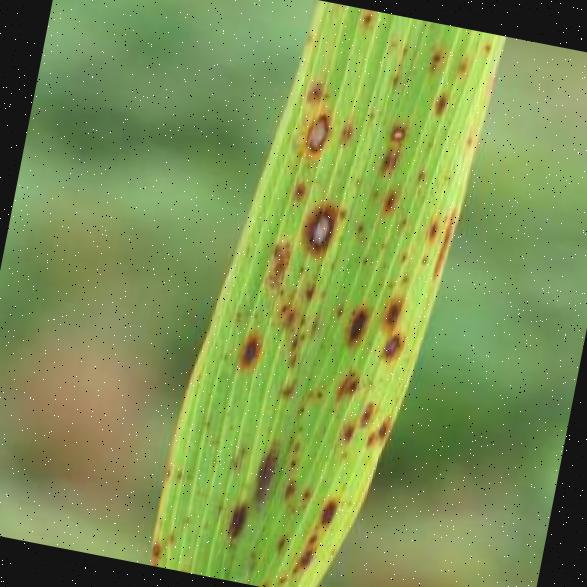Brown_Spot: (420, 190, 464, 292), (243, 426, 288, 511), (290, 196, 341, 260), (222, 318, 272, 382), (294, 101, 336, 164), (256, 233, 296, 296), (214, 490, 254, 551), (324, 358, 369, 410), (336, 296, 372, 354), (370, 284, 408, 336), (285, 536, 321, 578), (423, 80, 456, 124), (374, 323, 406, 368), (310, 488, 342, 532), (366, 405, 398, 444), (376, 179, 402, 220), (351, 394, 377, 432), (266, 524, 294, 558), (331, 414, 360, 446), (418, 212, 442, 248), (448, 45, 472, 80), (275, 472, 300, 505), (280, 342, 304, 376), (383, 115, 409, 146), (420, 44, 445, 76), (141, 532, 169, 560), (274, 370, 298, 401), (357, 422, 380, 454), (302, 306, 322, 342), (333, 115, 356, 146), (382, 60, 404, 90), (236, 552, 266, 574), (299, 522, 326, 546), (302, 75, 324, 103), (276, 303, 296, 333), (219, 451, 246, 473), (286, 176, 308, 202), (281, 324, 303, 350), (408, 160, 430, 184), (474, 32, 495, 54), (296, 279, 317, 301), (283, 432, 304, 454), (280, 451, 302, 472), (185, 365, 207, 386), (354, 7, 374, 30), (175, 506, 196, 527), (244, 303, 264, 325), (156, 461, 174, 485), (391, 246, 412, 266), (393, 266, 414, 286), (294, 482, 316, 501), (298, 24, 317, 46), (272, 565, 291, 587), (269, 278, 288, 300), (437, 163, 456, 185), (361, 102, 378, 126), (329, 297, 346, 321), (333, 198, 350, 222), (214, 345, 234, 365), (142, 550, 167, 566), (291, 304, 307, 329), (314, 417, 331, 440), (307, 380, 326, 400), (290, 397, 309, 417), (288, 419, 308, 438), (292, 495, 312, 514), (346, 169, 365, 189), (231, 440, 250, 460), (374, 230, 393, 250), (196, 510, 213, 532), (340, 488, 356, 511), (458, 131, 476, 151), (350, 214, 366, 236), (162, 524, 178, 546), (419, 133, 436, 153), (394, 210, 411, 230), (170, 464, 187, 484), (254, 573, 278, 587), (204, 452, 222, 470), (314, 280, 329, 300), (366, 181, 380, 202), (394, 38, 410, 56), (415, 250, 431, 268), (335, 444, 351, 462), (292, 258, 308, 276), (228, 306, 244, 324), (324, 541, 340, 559), (274, 294, 289, 313), (383, 34, 399, 50), (211, 499, 227, 515), (253, 518, 269, 534), (242, 543, 258, 559), (376, 254, 392, 270), (355, 250, 369, 268), (200, 414, 214, 429), (224, 421, 237, 434)
